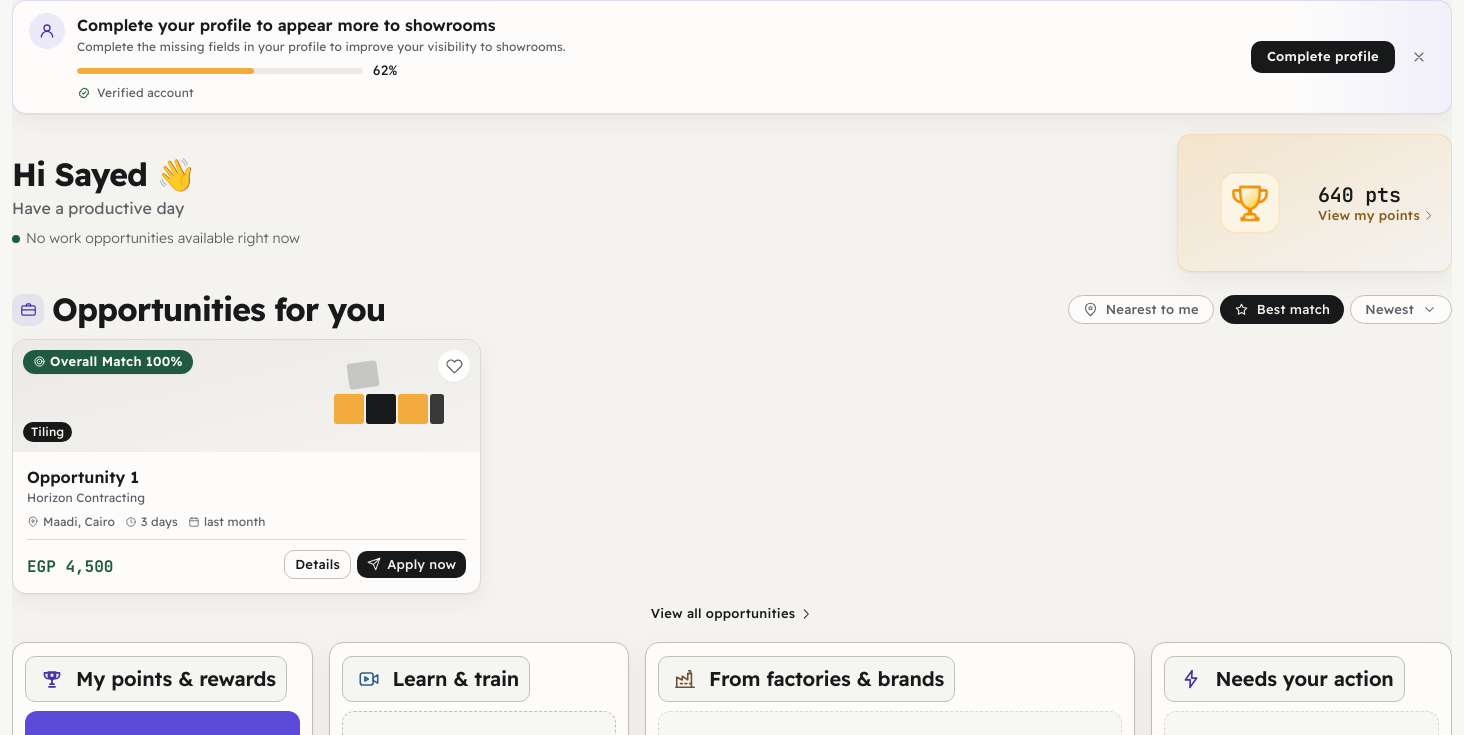
Test: installer dashboard — the saved heart is the REAL saved-jobs state › a failed save puts the heart back and says so — there is no dashboard-only state
The width and height of the screenshot is (1464, 735).
Click the button with test id "dashboard-save" at (454, 366), box [438,350,470,382]
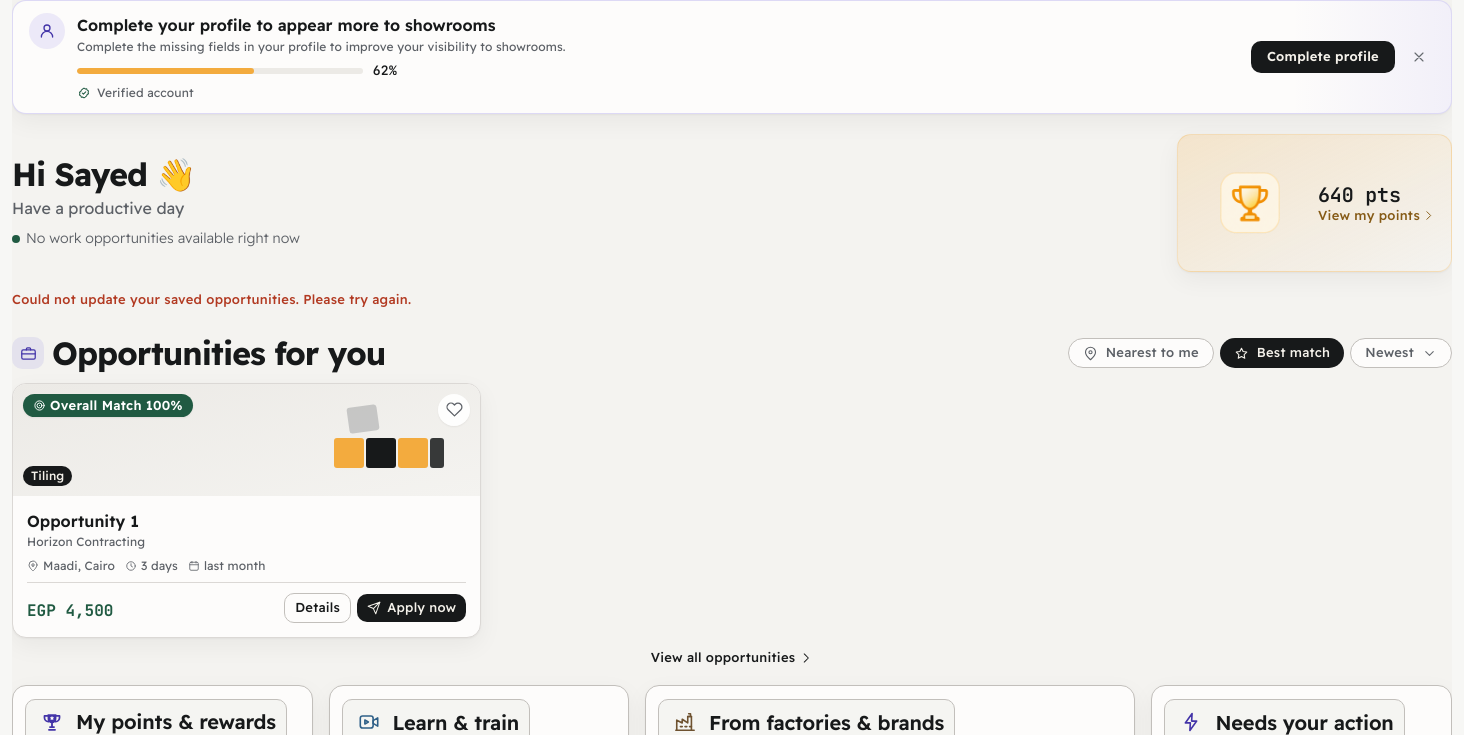
Expected: the message shows "Could not update your saved opportunities", [12,291,411,307]
